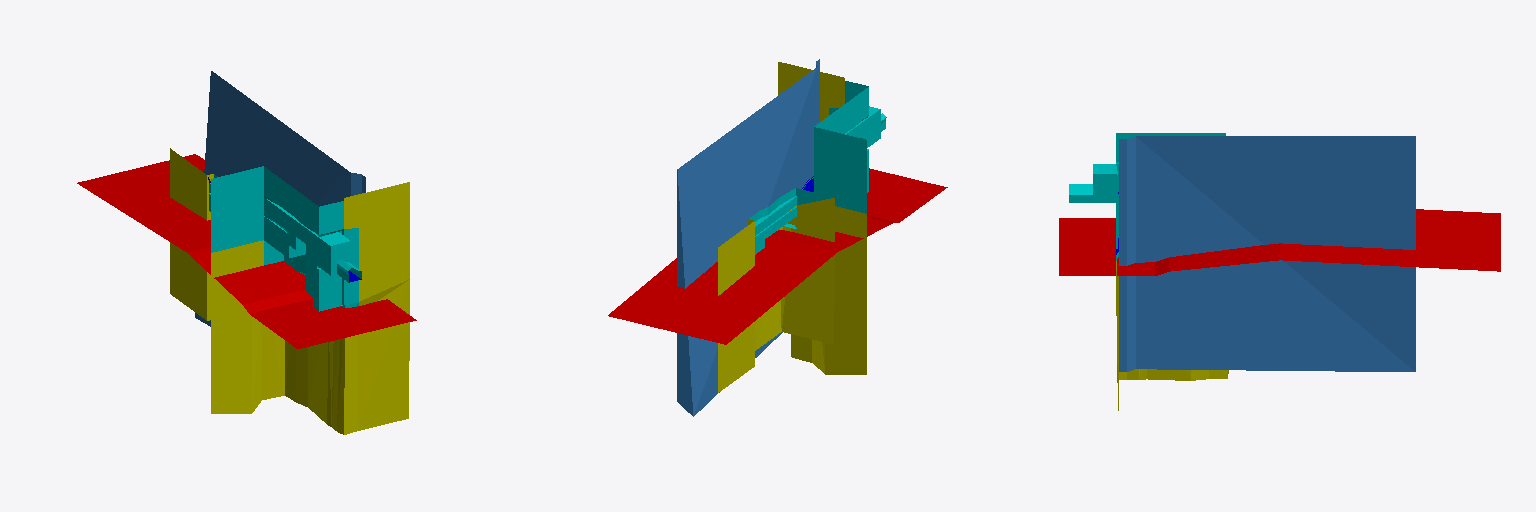
Rendered from STG0100_COLI_06.OBJ.
3 views of the same model, side by side, from view 1: azimuth 30°, elevation 25°; view 2: azimuth 150°, elevation 25°; view 3: azimuth 270°, elevation 25° (orthographic).
Parts seen in each view (by area): view 1: STG0100_COLI_06_[number redacted], STG0100_COLI_06_[number redacted], STG0100_COLI_06_[number redacted], STG0100_COLI_06_[number redacted]; view 2: STG0100_COLI_06_[number redacted], STG0100_COLI_06_[number redacted], STG0100_COLI_06_[number redacted], STG0100_COLI_06_[number redacted]; view 3: STG0100_COLI_06_[number redacted], STG0100_COLI_06_[number redacted], STG0100_COLI_06_[number redacted], STG0100_COLI_06_[number redacted].
Part boxes in pixels (left/top/right/bottom): STG0100_COLI_06_[number redacted]: left=170, top=148, right=409, bottom=434; STG0100_COLI_06_[number redacted]: left=77, top=154, right=416, bottom=348; STG0100_COLI_06_[number redacted]: left=209, top=166, right=361, bottom=311; STG0100_COLI_06_[number redacted]: left=195, top=71, right=365, bottom=326; STG0100_COLI_06_[number redacted]: left=677, top=59, right=819, bottom=416; STG0100_COLI_06_[number redacted]: left=718, top=62, right=866, bottom=392; STG0100_COLI_06_[number redacted]: left=608, top=168, right=947, bottom=344; STG0100_COLI_06_[number redacted]: left=749, top=81, right=886, bottom=254; STG0100_COLI_06_[number redacted]: left=1119, top=136, right=1415, bottom=371; STG0100_COLI_06_[number redacted]: left=1059, top=209, right=1500, bottom=275; STG0100_COLI_06_[number redacted]: left=1069, top=133, right=1225, bottom=260; STG0100_COLI_06_[number redacted]: left=1116, top=261, right=1228, bottom=410.
Bounding box in the file's own units: 1124 × 1945 × 2986.